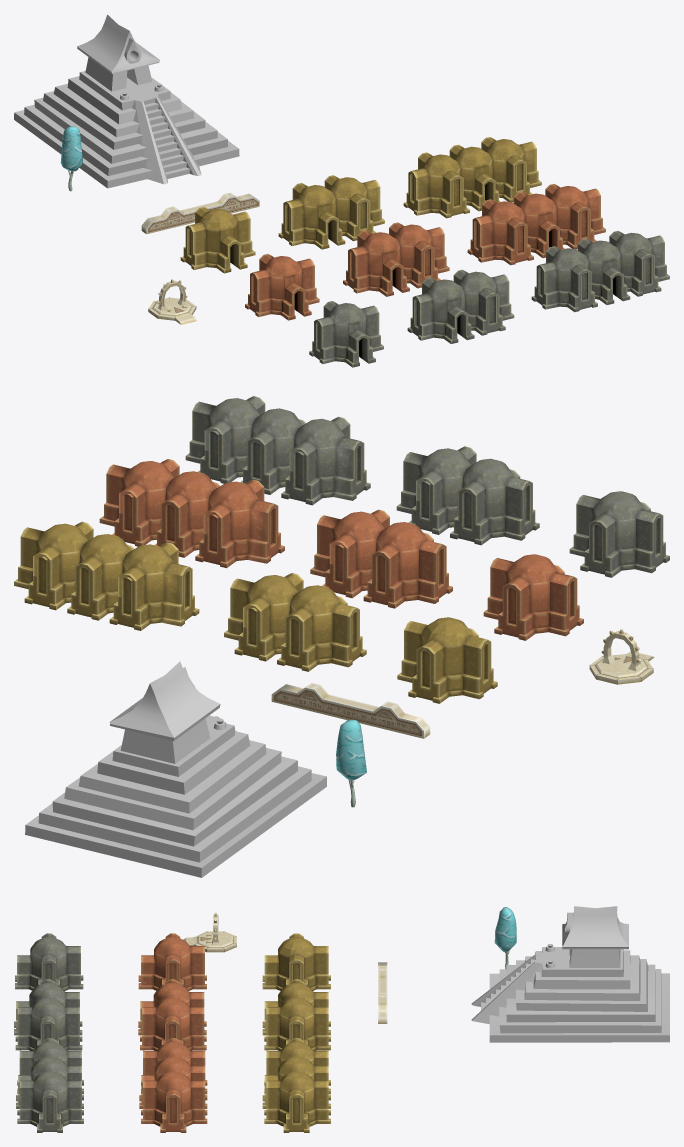
File: mundo1_exterior_wAtlas.fbx
3 views of the same model, one above another, from view 1: azimuth 30°, elevation 25°; view 2: azimuth 150°, elevation 25°; view 3: azimuth 270°, elevation 25° (orthographic). The views are drawn at different scales.
Visible parts, largest first — view 1: pCube12, m1_casa_C2, m1_casa_C, m1_casa_C1, m1_casa_B2, m1_casa_B, m1_casa_B1, m1_casa_A, m1_casa_A2, m1_casa_A1, m1_valla, m1_portal (+1 smaller); view 2: pCube12, m1_casa_C, m1_casa_C2, m1_casa_C1, m1_casa_B, m1_casa_B2, m1_casa_B1, m1_casa_A2, m1_casa_A, m1_casa_A1, m1_valla, m1_portal (+1 smaller); view 3: pCube12, m1_casa_C, m1_casa_C1, m1_casa_C2, m1_casa_B1, m1_casa_B, m1_casa_B2, m1_casa_A, m1_casa_A1, m1_casa_A2, m1_portal, m1_arbol_Esp (+1 smaller).
Boxes of the visible parts, bbox=[...] form: pCube12: bbox=[14, 14, 239, 188]; m1_casa_C2: bbox=[531, 230, 669, 312]; m1_casa_C: bbox=[403, 137, 541, 218]; m1_casa_C1: bbox=[467, 184, 605, 265]; m1_casa_B2: bbox=[407, 269, 514, 343]; m1_casa_B: bbox=[278, 175, 384, 249]; m1_casa_B1: bbox=[343, 222, 449, 296]; m1_casa_A: bbox=[180, 206, 255, 273]; m1_casa_A2: bbox=[309, 301, 383, 367]; m1_casa_A1: bbox=[245, 254, 319, 320]; m1_valla: bbox=[141, 192, 259, 234]; m1_portal: bbox=[148, 279, 196, 324]; pCube12: bbox=[25, 661, 326, 877]; m1_casa_C: bbox=[14, 521, 199, 630]; m1_casa_C2: bbox=[185, 396, 370, 505]; m1_casa_C1: bbox=[99, 459, 284, 568]; m1_casa_B: bbox=[224, 573, 366, 671]; m1_casa_B2: bbox=[396, 446, 539, 545]; m1_casa_B1: bbox=[310, 509, 452, 608]; m1_casa_A2: bbox=[569, 491, 669, 577]; m1_casa_A: bbox=[397, 617, 497, 703]; m1_casa_A1: bbox=[483, 554, 583, 640]; m1_valla: bbox=[271, 683, 430, 738]; m1_portal: bbox=[589, 629, 654, 684]; pCube12: bbox=[471, 906, 669, 1042]; m1_casa_C: bbox=[262, 1038, 330, 1132]; m1_casa_C1: bbox=[139, 1038, 207, 1132]; m1_casa_C2: bbox=[16, 1038, 83, 1132]; m1_casa_B1: bbox=[138, 979, 206, 1050]; m1_casa_B: bbox=[262, 979, 330, 1050]; m1_casa_B2: bbox=[14, 979, 82, 1050]; m1_casa_A: bbox=[262, 933, 330, 990]; m1_casa_A1: bbox=[138, 933, 206, 990]; m1_casa_A2: bbox=[15, 933, 83, 991]; m1_portal: bbox=[183, 912, 236, 952]; m1_arbol_Esp: bbox=[494, 907, 516, 969].
Bounding box in the file's own units: 3.49 × 0.8759 × 4.85.
